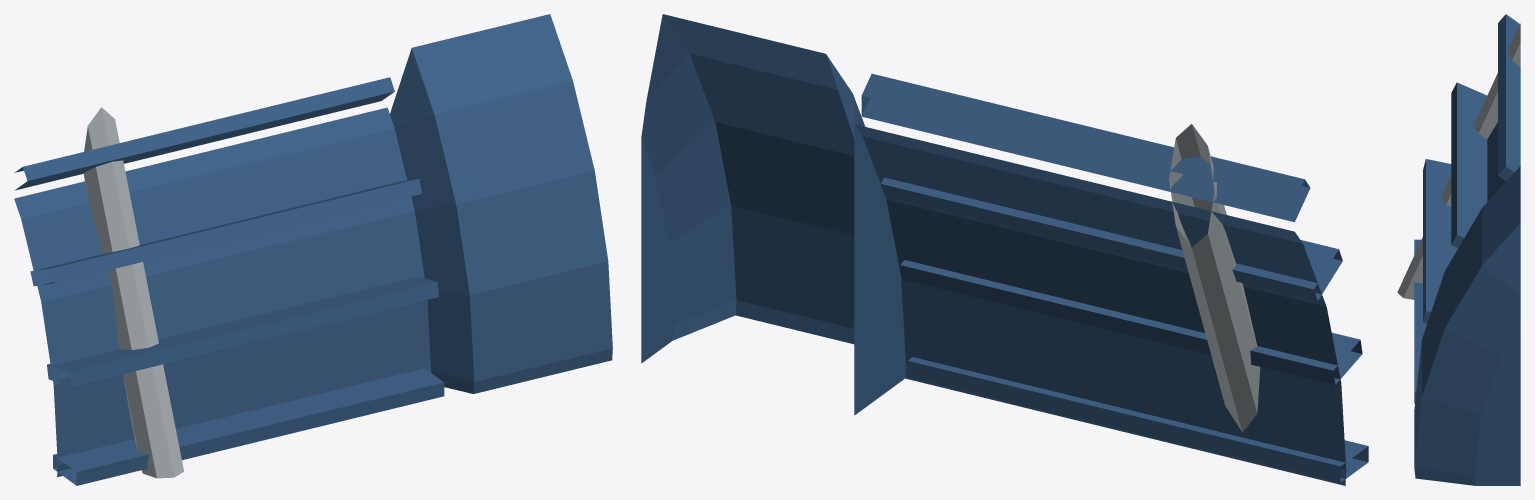
File: cell_41.obj
The picture shows the model from 3 angles, left to right: view 1: azimuth 30°, elevation 25°; view 2: azimuth 150°, elevation 25°; view 3: azimuth 270°, elevation 25°; orthographic projection. The views are drawn at different scales.
Bounding box in the file's own units: 0.92 × 0.5036 × 0.2088.
